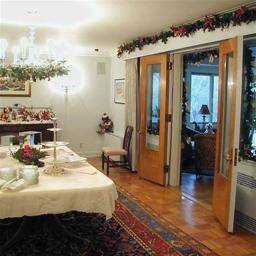Puerta: (214, 42, 238, 233), (140, 57, 170, 185)
